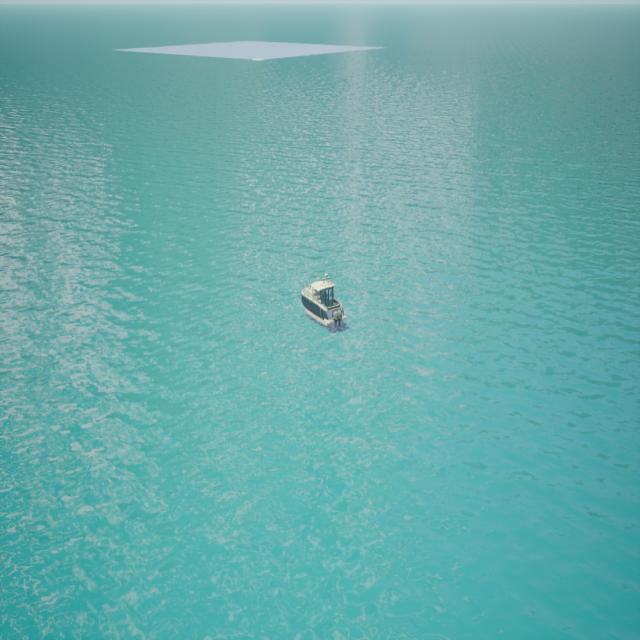ship: (300, 264, 350, 340)
